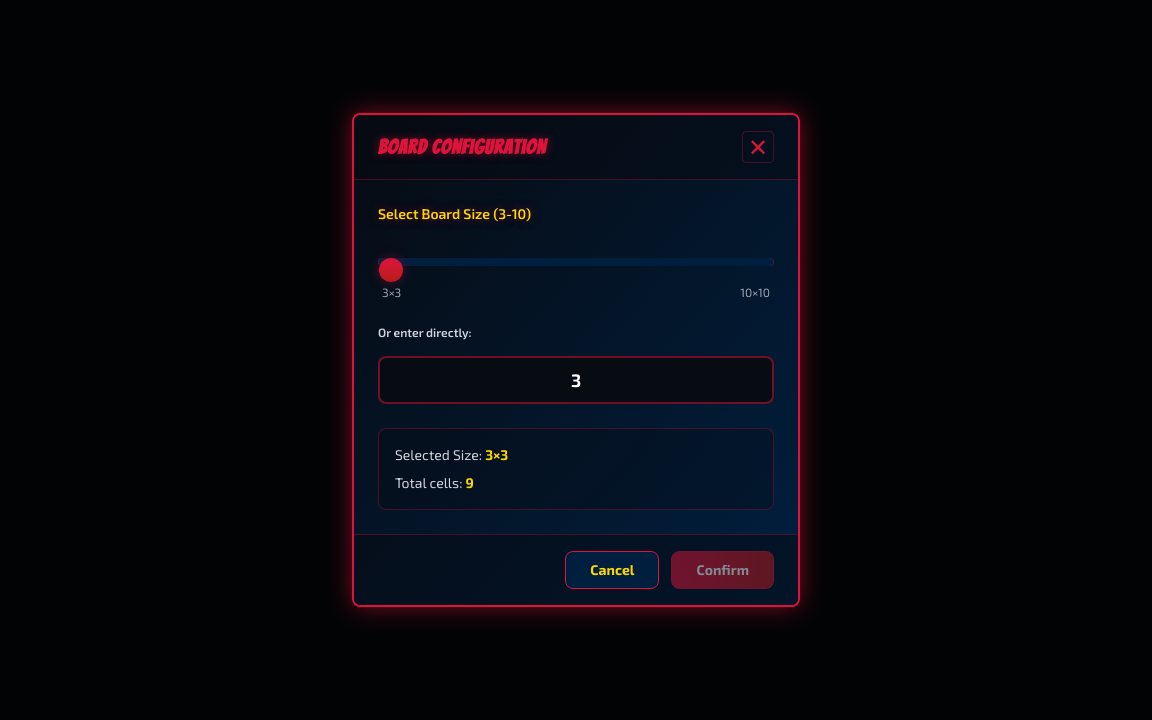
Test: BoardConfiguration.vue › Accessibility › should use role="status" for success messages
Set the slider with id "board-size-slider" to "5" at (495, 262), box 378,258 -> 774,266
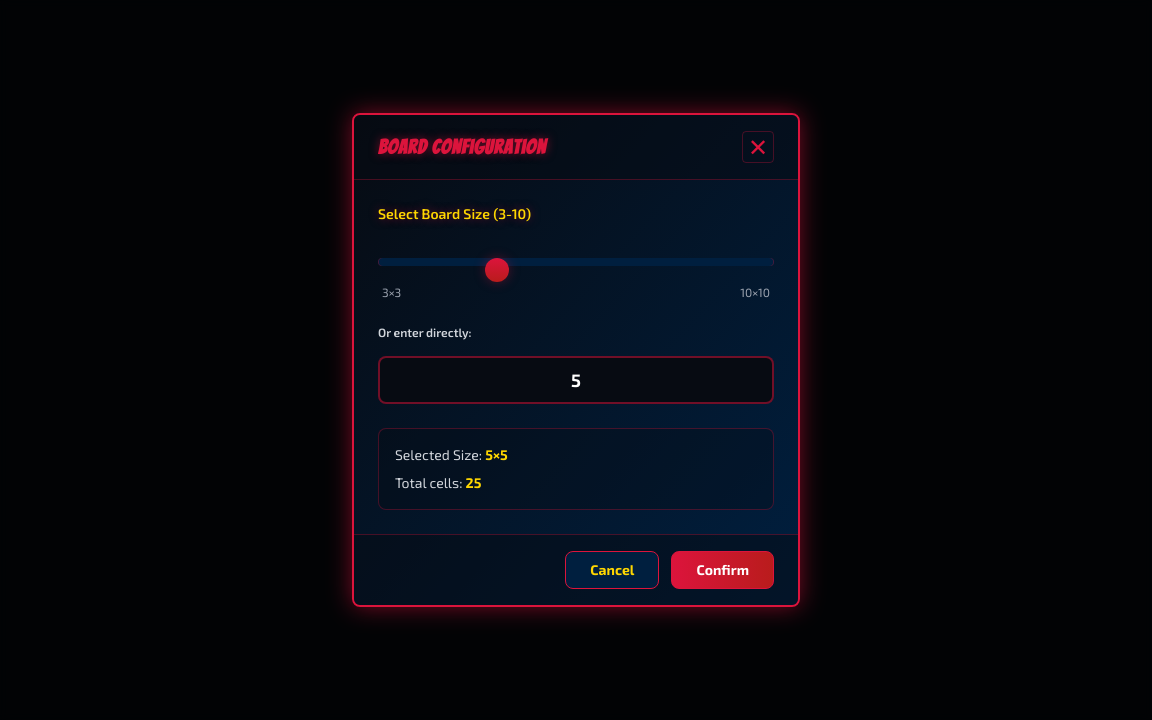
Click the button "Confirm" at (723, 570), box 671,551 -> 774,589
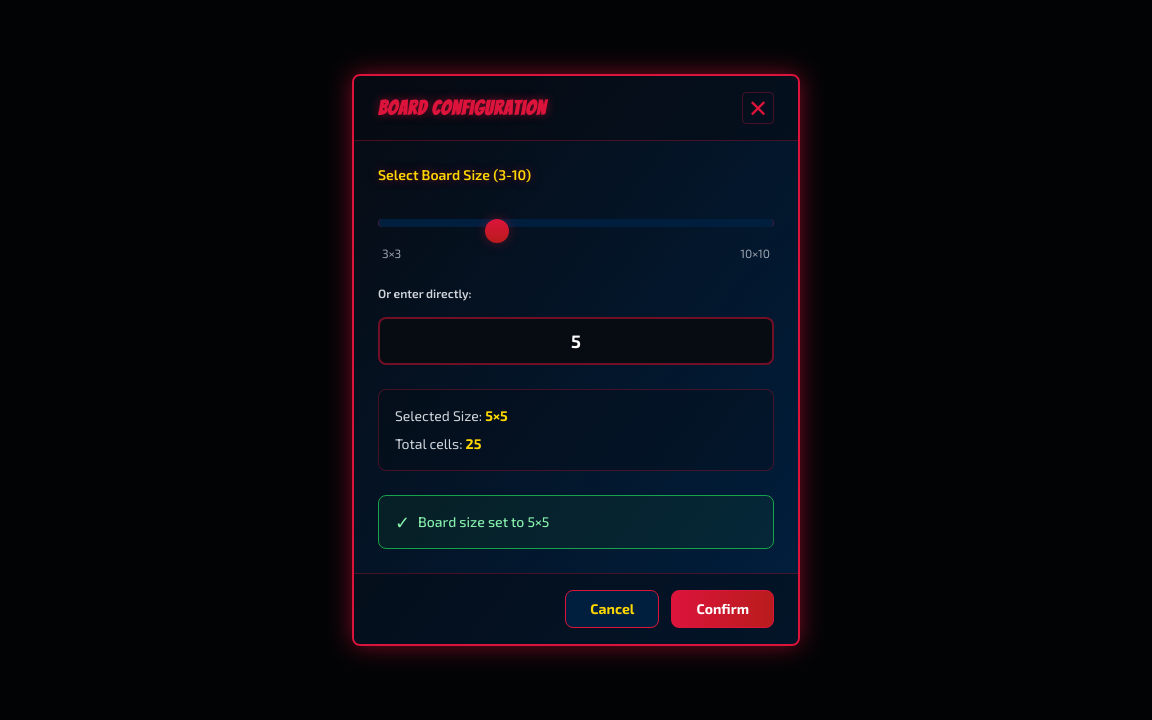
Expected: the message "✓ Board size set to 5×5" is shown, 378,495 -> 774,549
